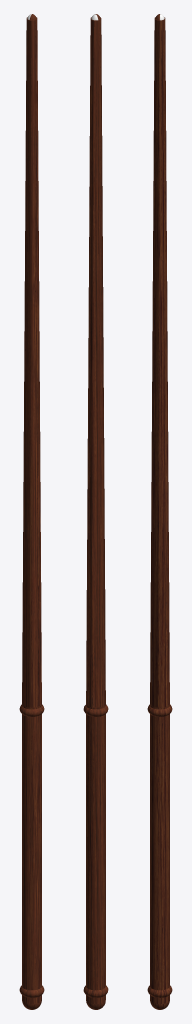
File: Wand.fbx
3 renders of one model, left to right at view 1: azimuth 90°, elevation 25°; view 2: azimuth 150°, elevation 25°; view 3: azimuth 270°, elevation 25°, orthographic.
Parts seen in each view (by area): view 1: pCylinder2, pCylinder1, pSphere1, pSphere2; view 2: pCylinder2, pCylinder1, pSphere2, pSphere1; view 3: pCylinder2, pCylinder1, pSphere1, pSphere2.
Boxes of the visible parts, left/top/right/bottom form: pCylinder2: left=22, top=17, right=41, bottom=707; pCylinder1: left=22, top=704, right=41, bottom=1004; pSphere1: left=19, top=704, right=44, bottom=716; pSphere2: left=19, top=985, right=44, bottom=997; pCylinder2: left=86, top=17, right=105, bottom=707; pCylinder1: left=86, top=704, right=105, bottom=1004; pSphere2: left=83, top=985, right=108, bottom=997; pSphere1: left=83, top=704, right=108, bottom=716; pCylinder2: left=150, top=17, right=169, bottom=707; pCylinder1: left=150, top=704, right=169, bottom=1004; pSphere1: left=147, top=704, right=172, bottom=716; pSphere2: left=147, top=985, right=172, bottom=997.
Size of the model in its own units: 7.29 by 323 by 7.29.
Materials: 2 (2 with a texture image).
